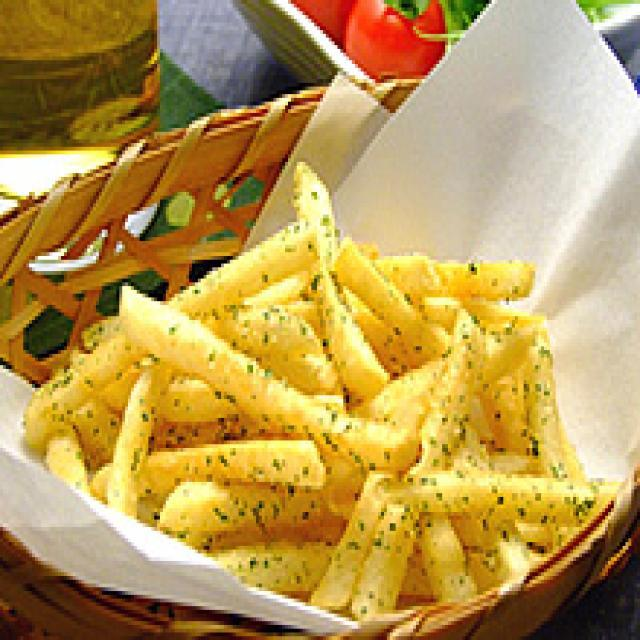French Fries: (72, 251, 603, 615)
